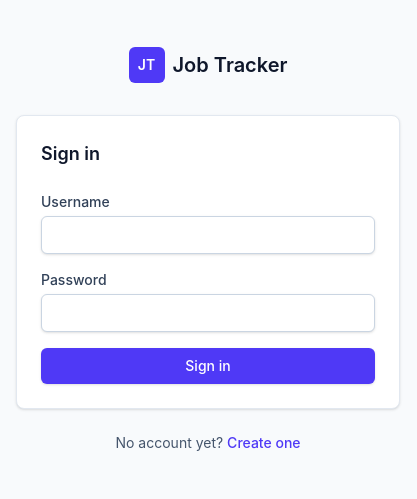
Test: LoginPage › shows an error for invalid credentials
Type "user" into the field labelled "Username".
click(208, 235); type("user")  # box [41,216,375,254]
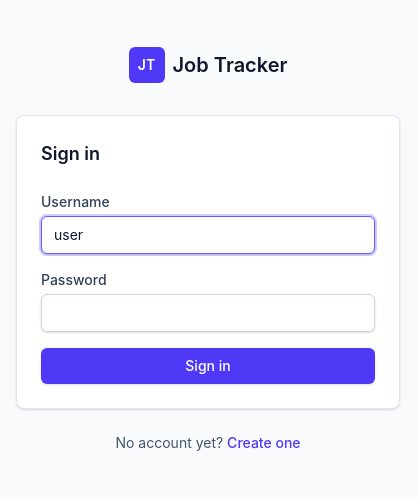
Type "wrong-password" into the password field labelled "Password".
click(208, 313); type("wrong-password")  # box [41,294,375,332]
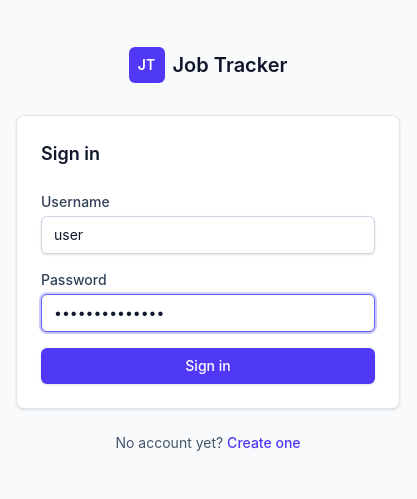
Click the button "Sign in".
click(208, 366)  # box [41,348,375,384]
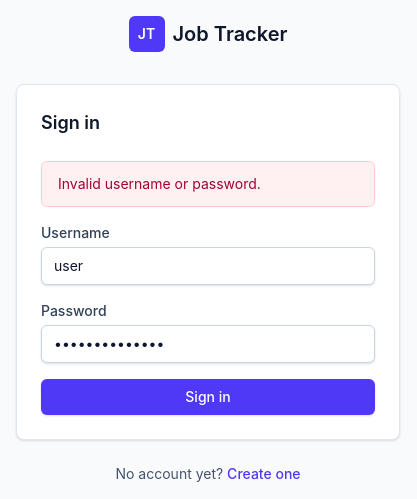
Now the message reads "Invalid username or password.", box [58,175,261,192]
